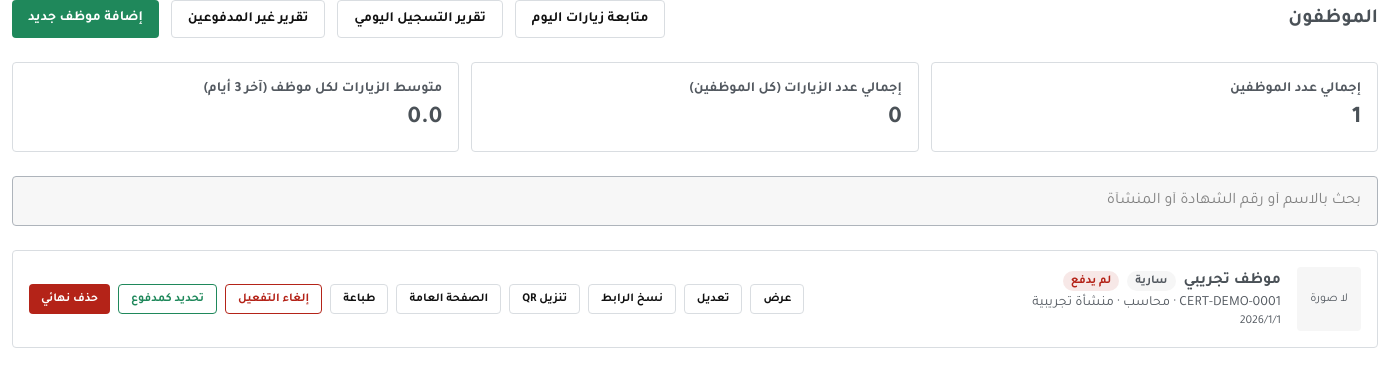
Test case: EmployeeListPage unpaid status › marks a previously-unpaid employee as paid, clearing the badge
Expected: the text "موظف تجريبي" is shown, left=1184, top=269, right=1281, bottom=293
Click the button "تحديد كمدفوع".
click(168, 299)  # box left=118, top=284, right=217, bottom=314
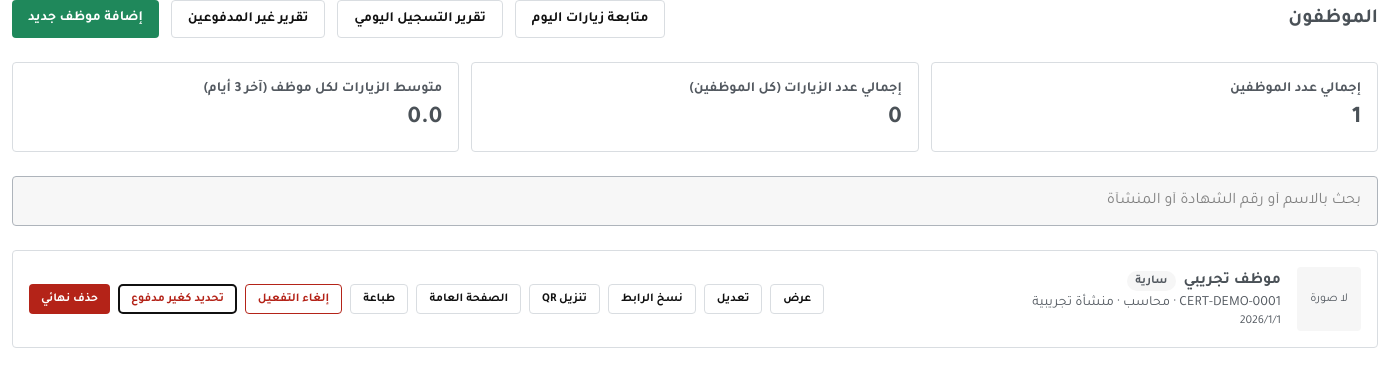
Expected: the text "لم يدفع" is gone
